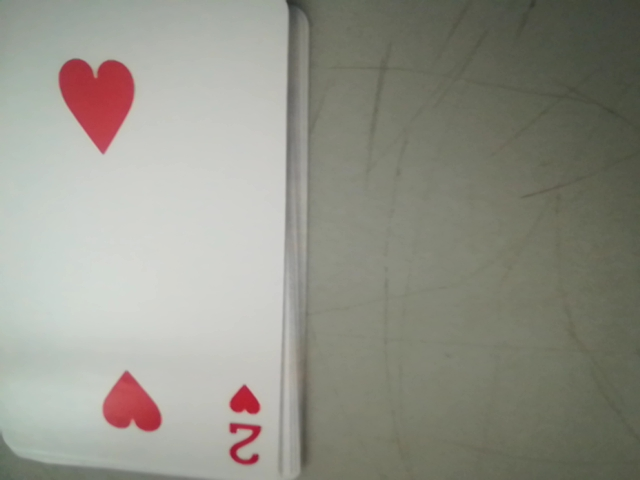hx 2: (223, 392, 272, 480)
